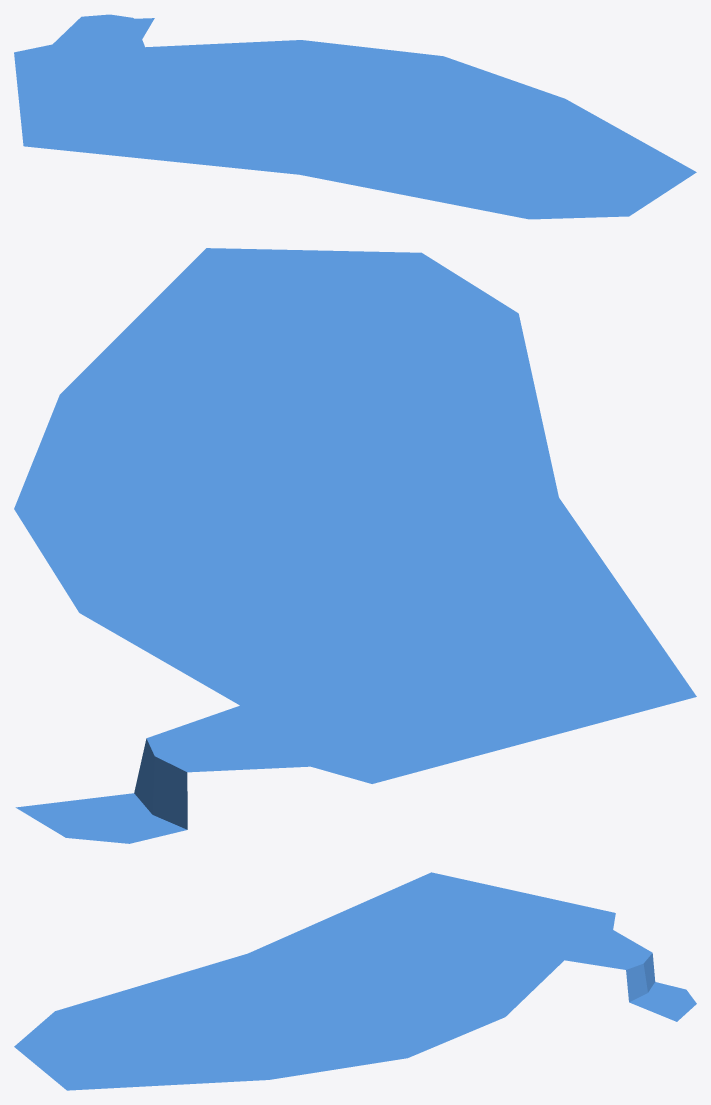
Rendered from 1005_liushui_2.FBX.
The picture shows the model from 3 angles, top to bottom: view 1: azimuth 30°, elevation 25°; view 2: azimuth 150°, elevation 25°; view 3: azimuth 270°, elevation 25°; orthographic projection. The views are drawn at different scales.
Visible parts, largest first — view 1: 1005_liushui_2; view 2: 1005_liushui_2; view 3: 1005_liushui_2.
Boxes of the visible parts, left/top/right/bottom form: 1005_liushui_2: left=14, top=14, right=696, bottom=219; 1005_liushui_2: left=14, top=248, right=696, bottom=843; 1005_liushui_2: left=14, top=872, right=696, bottom=1090.
Size of the model in its own units: 1016 by 1343 by 64.74.
